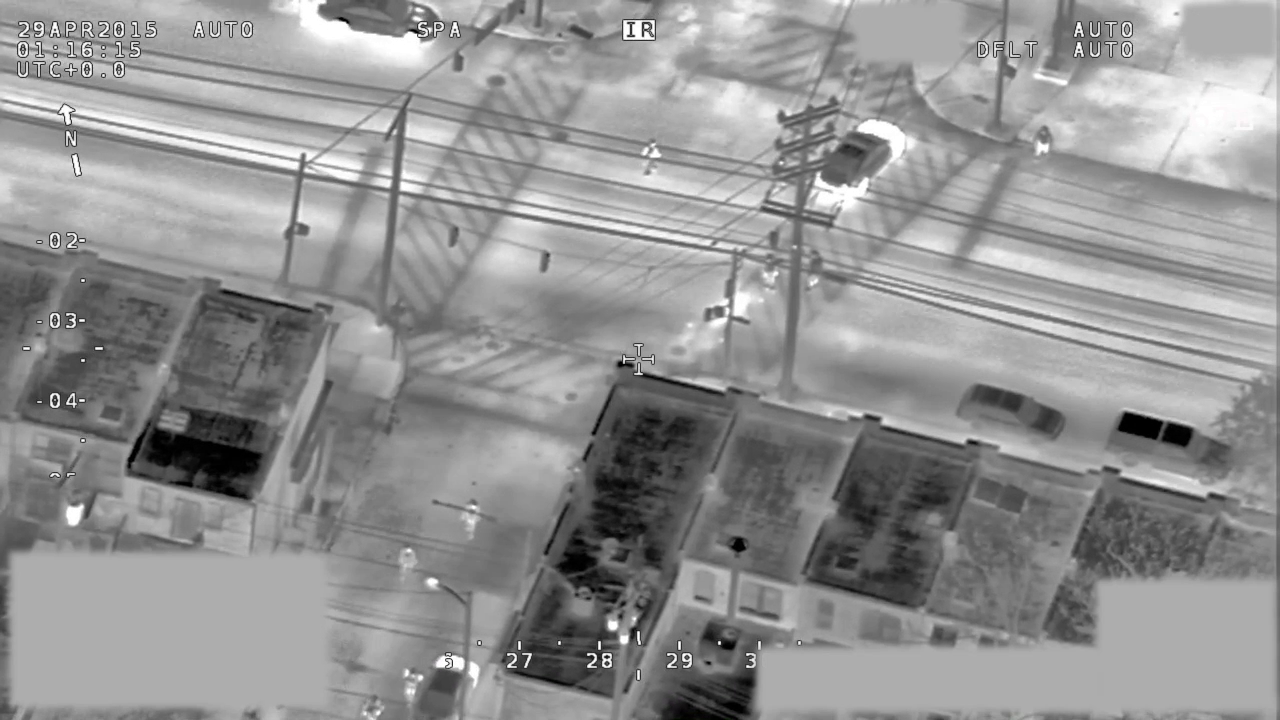vehicle: (1099, 404, 1238, 490), (812, 117, 908, 203), (953, 379, 1069, 447), (312, 1, 443, 46)
